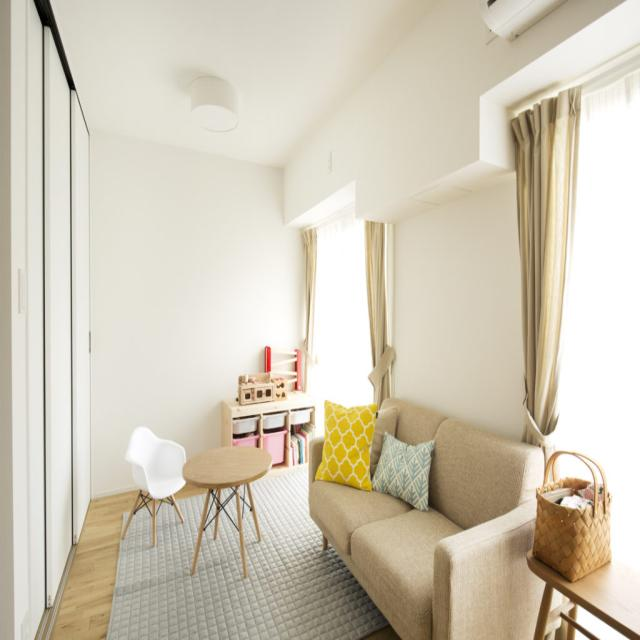modern chair: (120, 419, 186, 546)
modern desk: (179, 444, 277, 578)
modern shelf: (217, 367, 317, 466)
modern sofa: (305, 392, 545, 640)
